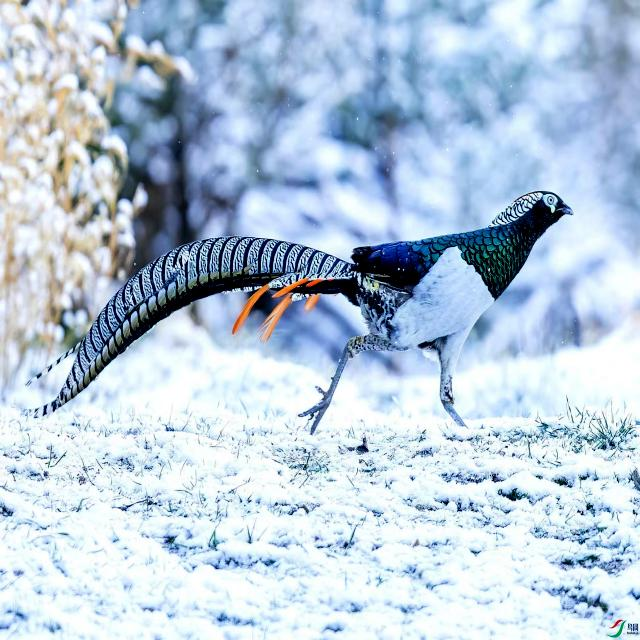Chrysolophus amherstiae: (45, 236, 357, 413)
